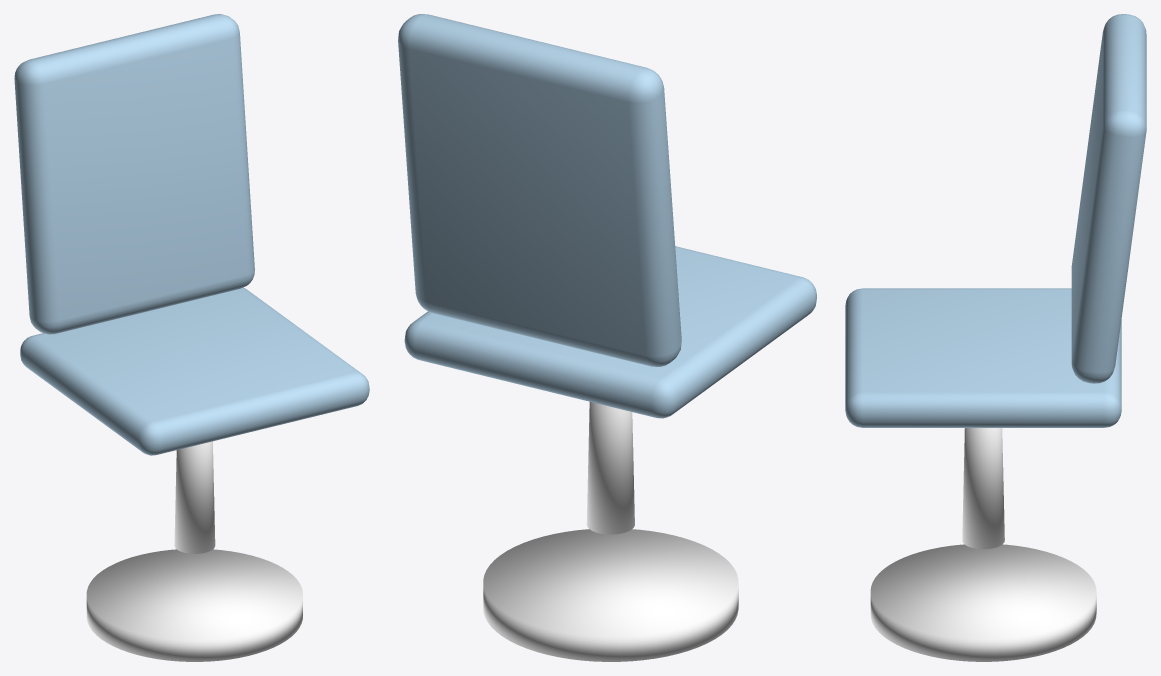
The model's file is lead-chair.glb.
3 views of the same model, side by side, from view 1: azimuth 30°, elevation 25°; view 2: azimuth 150°, elevation 25°; view 3: azimuth 270°, elevation 25° (orthographic). The views are drawn at different scales.
Visible parts, largest first — view 1: Back, Seat, Base, Stem; view 2: Back, Base, Seat, Stem; view 3: Seat, Base, Back, Stem.
Boxes of the visible parts, x1,y1,x2,y2 form: Back: [14, 14, 254, 334]; Seat: [20, 287, 369, 455]; Base: [86, 549, 302, 661]; Stem: [174, 441, 215, 553]; Back: [398, 14, 681, 366]; Base: [483, 529, 738, 661]; Seat: [404, 246, 816, 418]; Stem: [586, 402, 634, 534]; Seat: [845, 288, 1121, 427]; Base: [870, 544, 1096, 661]; Back: [1071, 14, 1146, 383]; Stem: [962, 428, 1004, 549].
Size of the model in its own units: 0.44 by 0.9687 by 0.4797.
